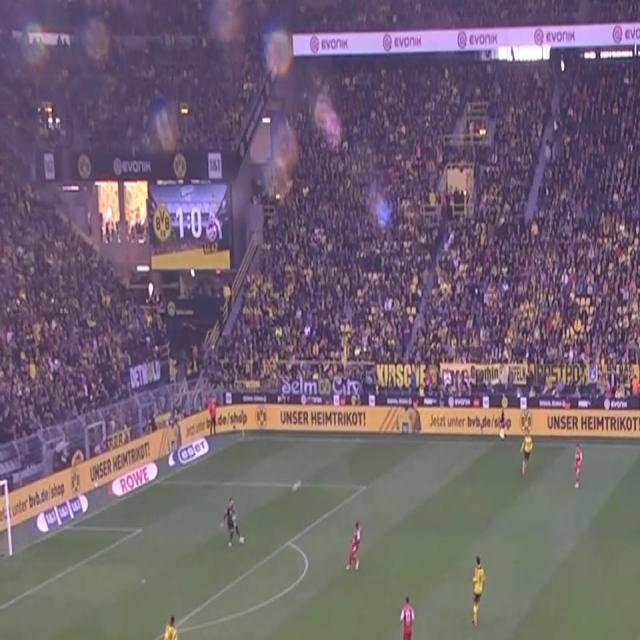ball: (290, 476, 303, 495)
